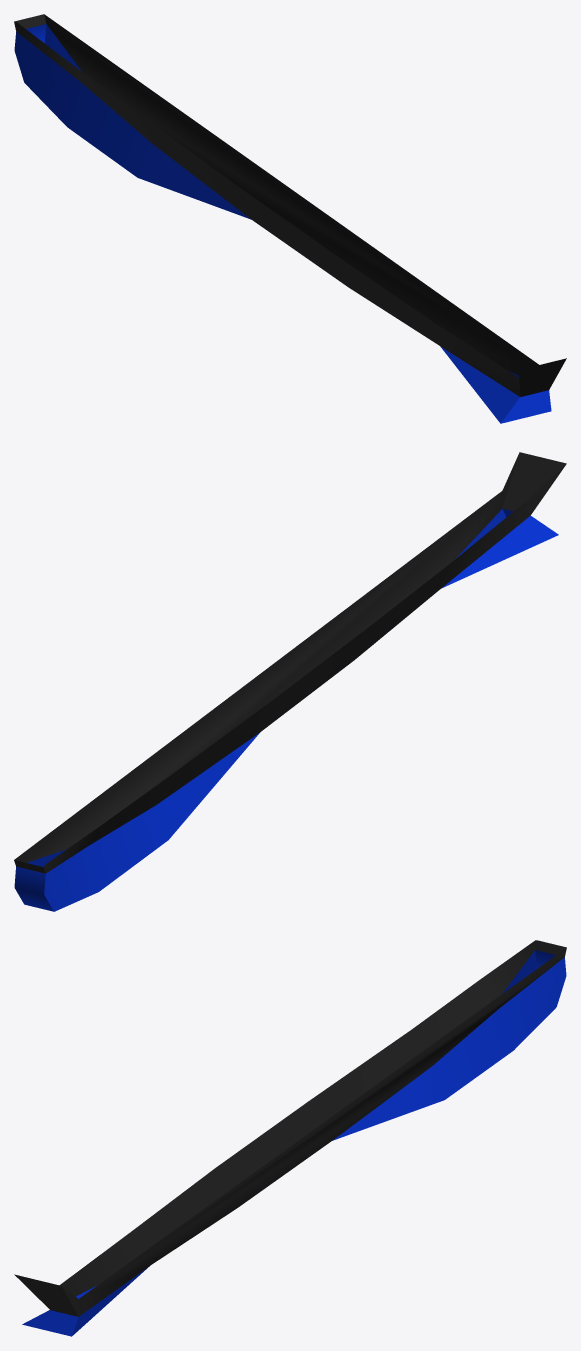
Rendered from Classic_1_Sidepanel_3_L.fbx.
3 views of the same model, one above another, from view 1: azimuth 30°, elevation 25°; view 2: azimuth 150°, elevation 25°; view 3: azimuth 330°, elevation 25° (orthographic). The views are drawn at different scales.
Visible parts, largest first — view 1: Classic_1_Sidepanel_3_L; view 2: Classic_1_Sidepanel_3_L; view 3: Classic_1_Sidepanel_3_L.
Part boxes in pixels (left/top/right/bottom): Classic_1_Sidepanel_3_L: left=14, top=14, right=566, bottom=423; Classic_1_Sidepanel_3_L: left=14, top=452, right=566, bottom=911; Classic_1_Sidepanel_3_L: left=14, top=940, right=566, bottom=1336.
Size of the model in its own units: 11.77 by 21.21 by 198.
